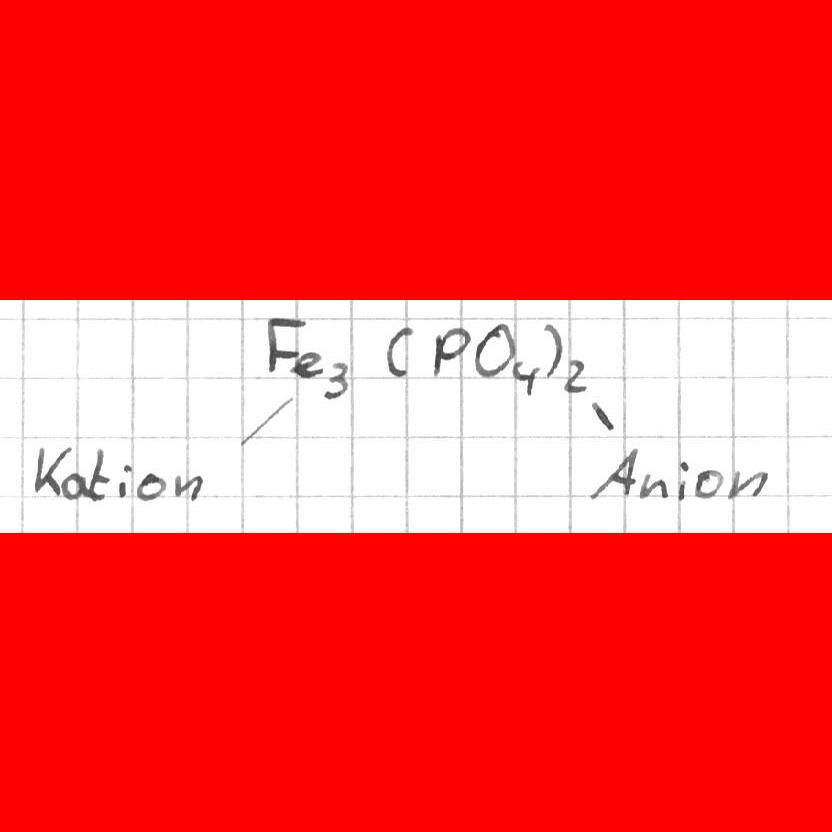Char: (238, 383, 291, 431), (589, 448, 638, 499), (263, 313, 301, 376), (473, 323, 513, 377), (429, 326, 471, 376), (33, 442, 67, 500), (383, 324, 415, 375), (540, 321, 561, 384), (728, 467, 766, 501), (322, 358, 352, 401), (89, 448, 111, 500), (289, 349, 325, 378), (590, 399, 617, 434), (565, 355, 589, 394), (135, 470, 165, 501), (693, 469, 722, 501), (513, 359, 539, 394), (172, 472, 203, 501), (60, 473, 90, 501), (639, 473, 667, 499), (673, 459, 688, 502), (116, 461, 132, 501)
